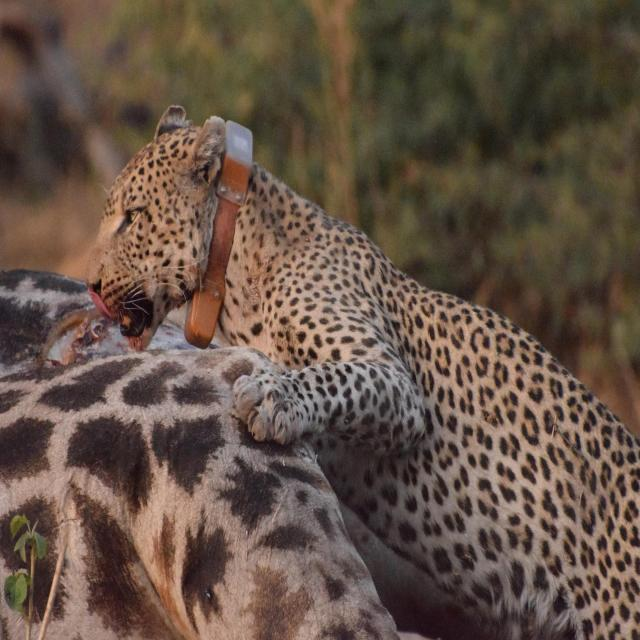Leopard: (57, 110, 640, 640)
